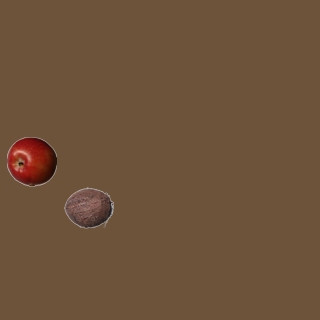Apple Braeburn: (6, 136, 56, 186)
Cocos: (63, 182, 113, 232)
